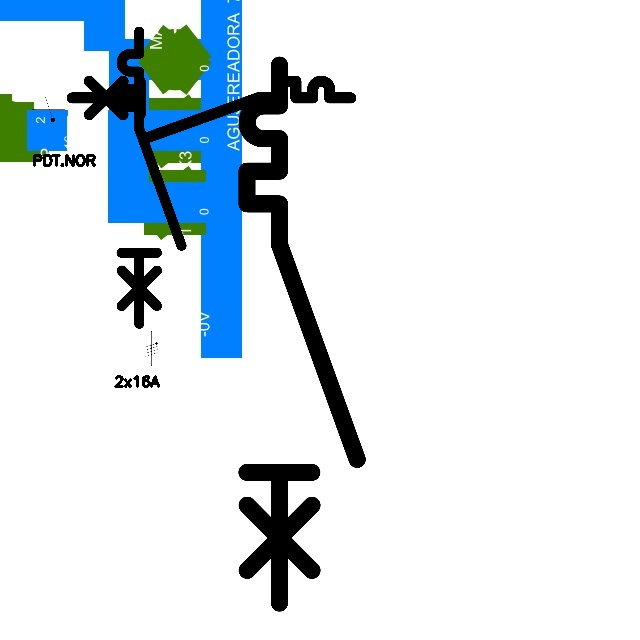interruptor_termomagnetico: (233, 51, 371, 617), (114, 24, 189, 331), (65, 74, 357, 145)
